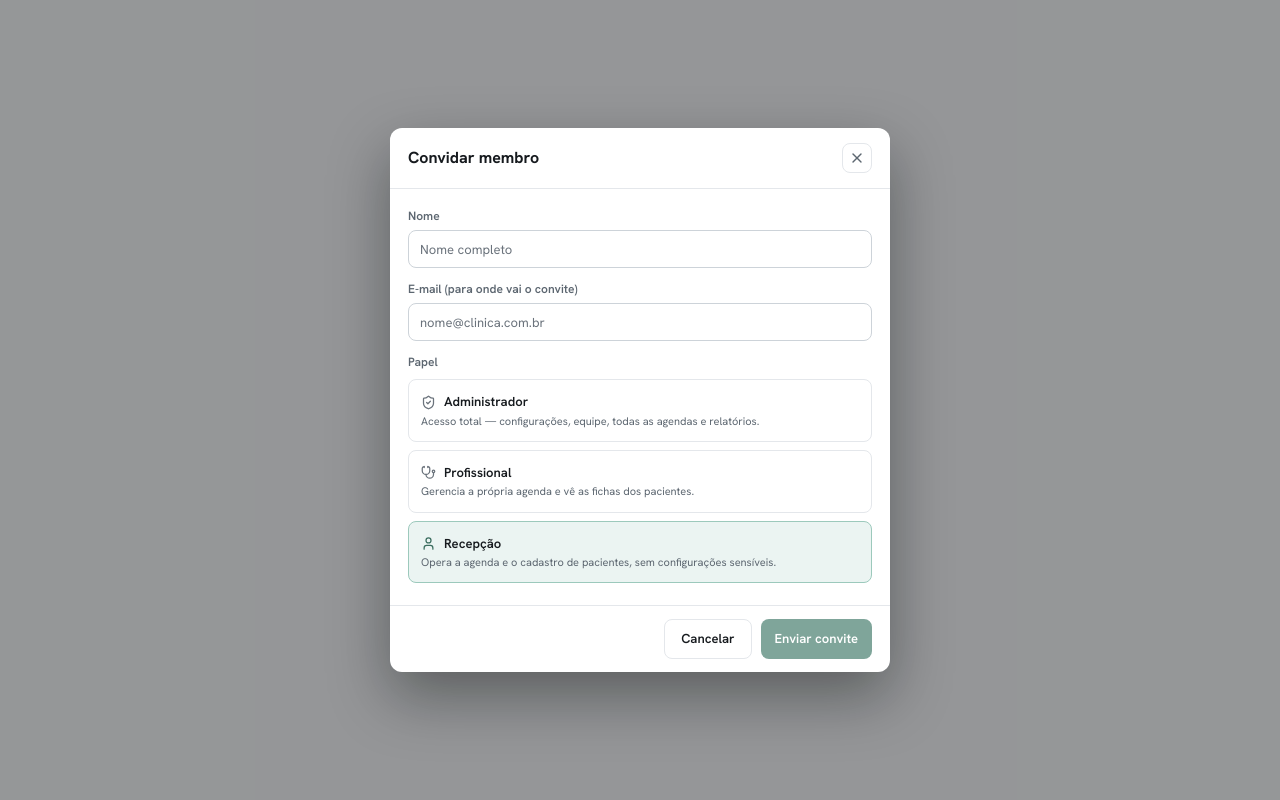
Test: MemberModal — convite › ao escolher Profissional, exige vínculo e desabilita o envio
Step 1. Click the button "Profissional" → (478,472), box [408,450,872,512]
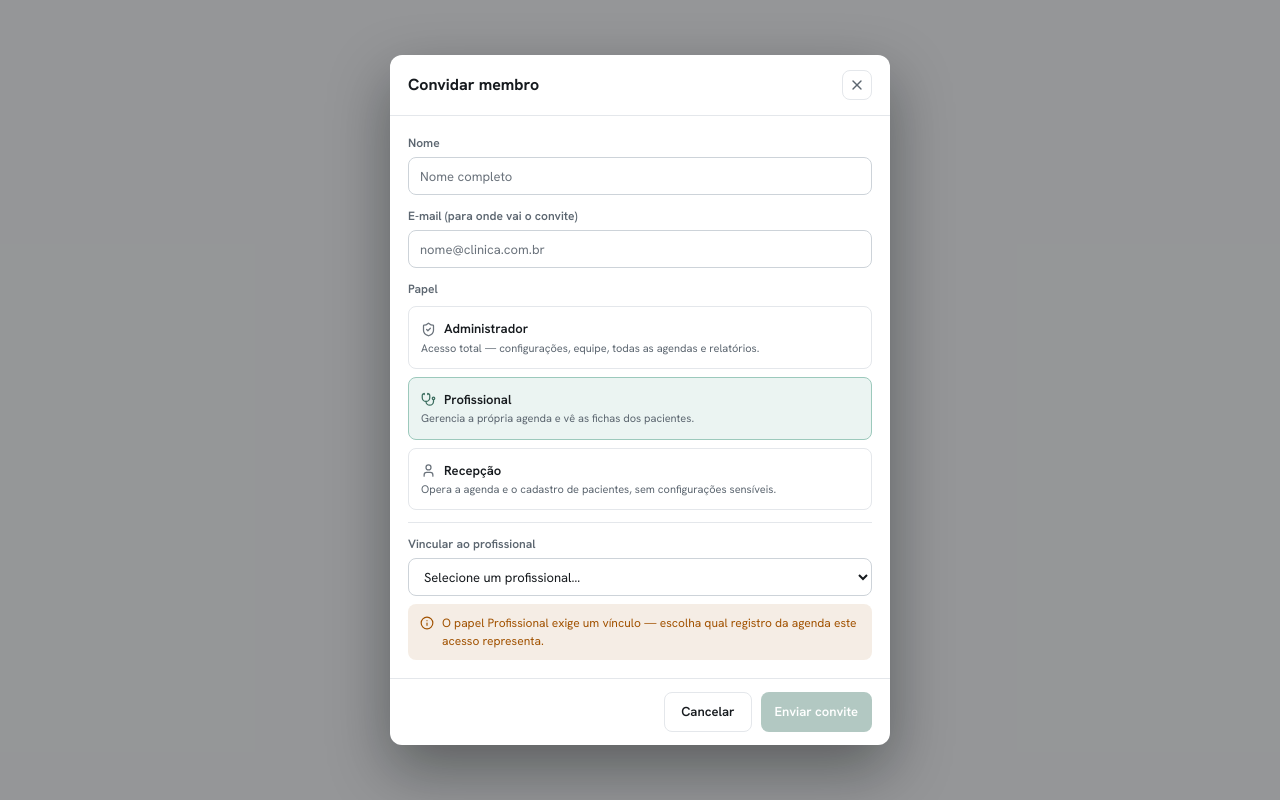
Expected: the text "exige um vínculo" is shown, [442,615,856,649]
Expected: the button "Enviar convite" is disabled, [761,692,872,732]
